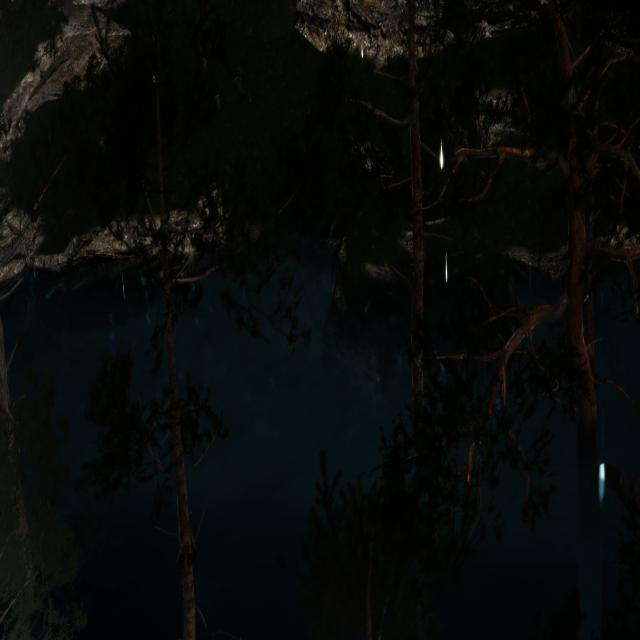Human: (196, 0, 248, 111)
